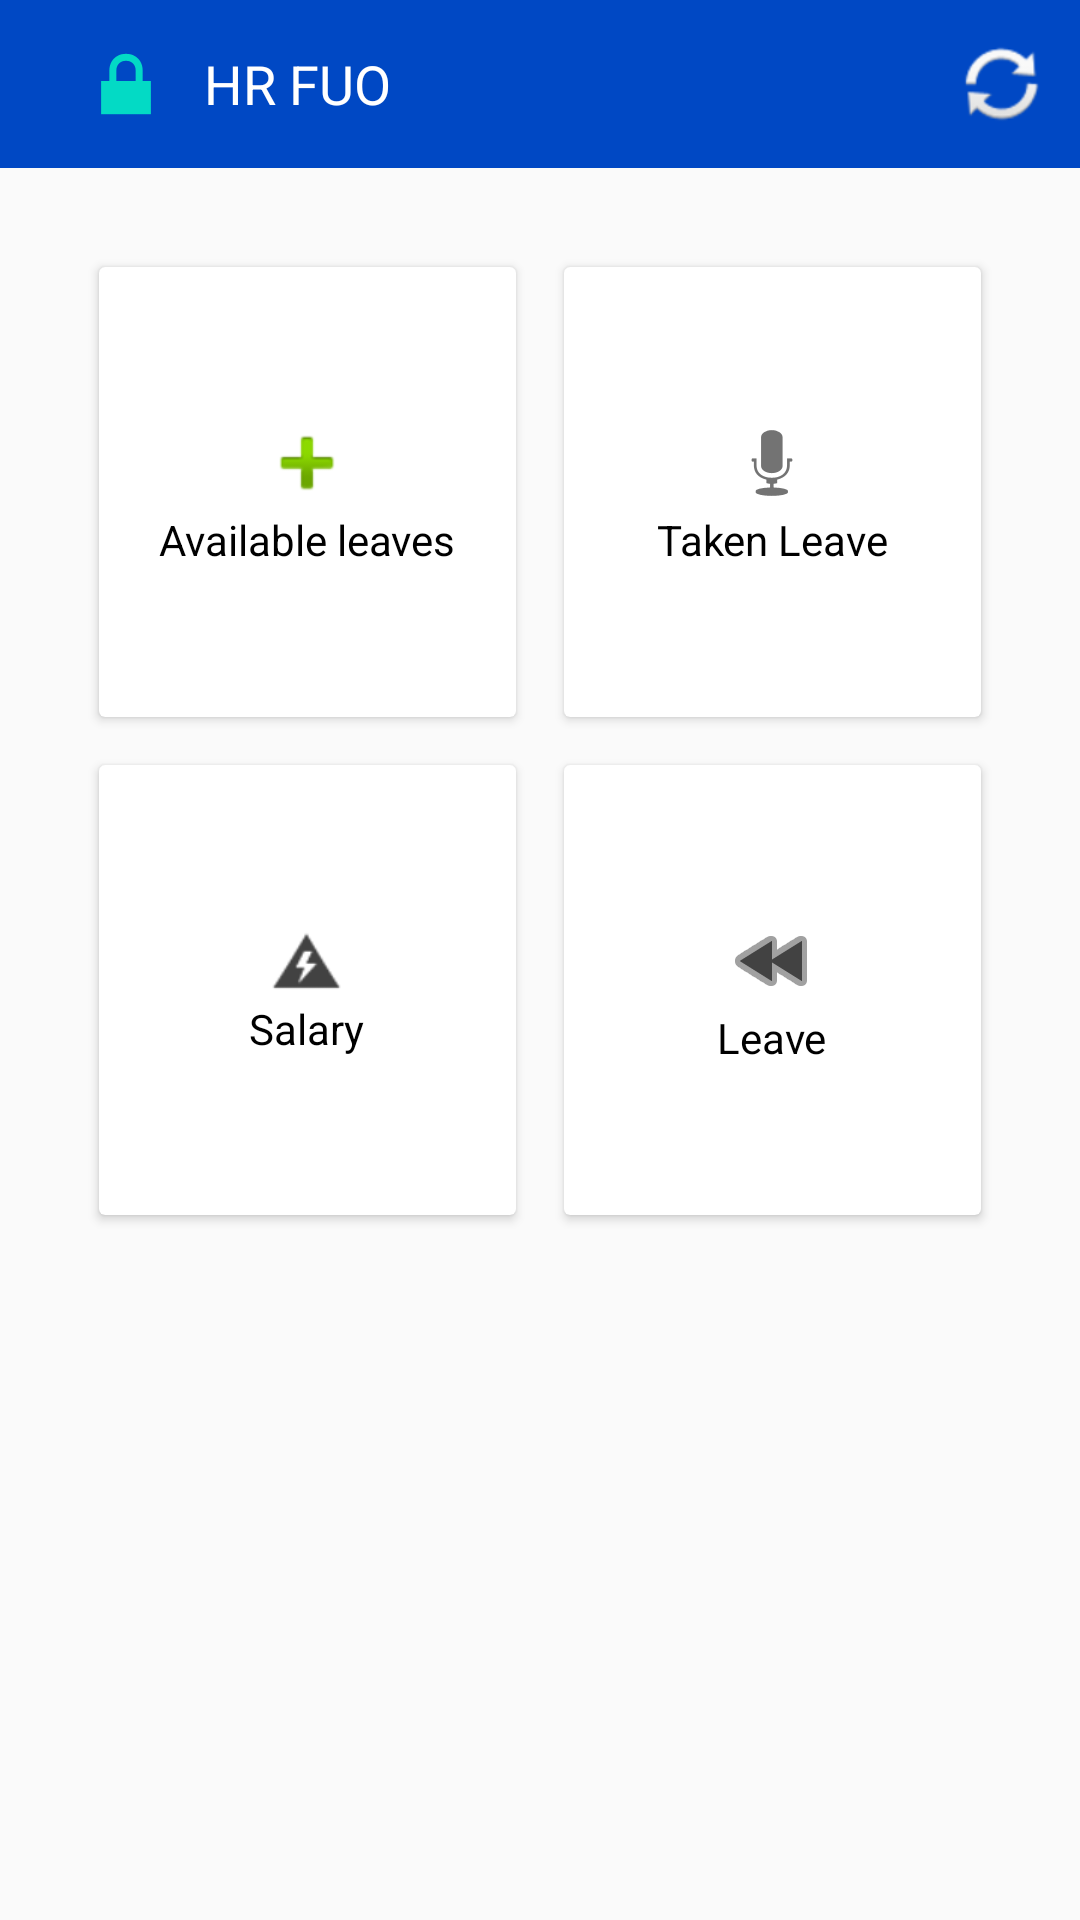

Where icons sit on this 1080px×1920px app screen, as (x1, y1, x2, y2):
lock: (101, 53, 151, 115)
popup sync: (965, 48, 1039, 120)
